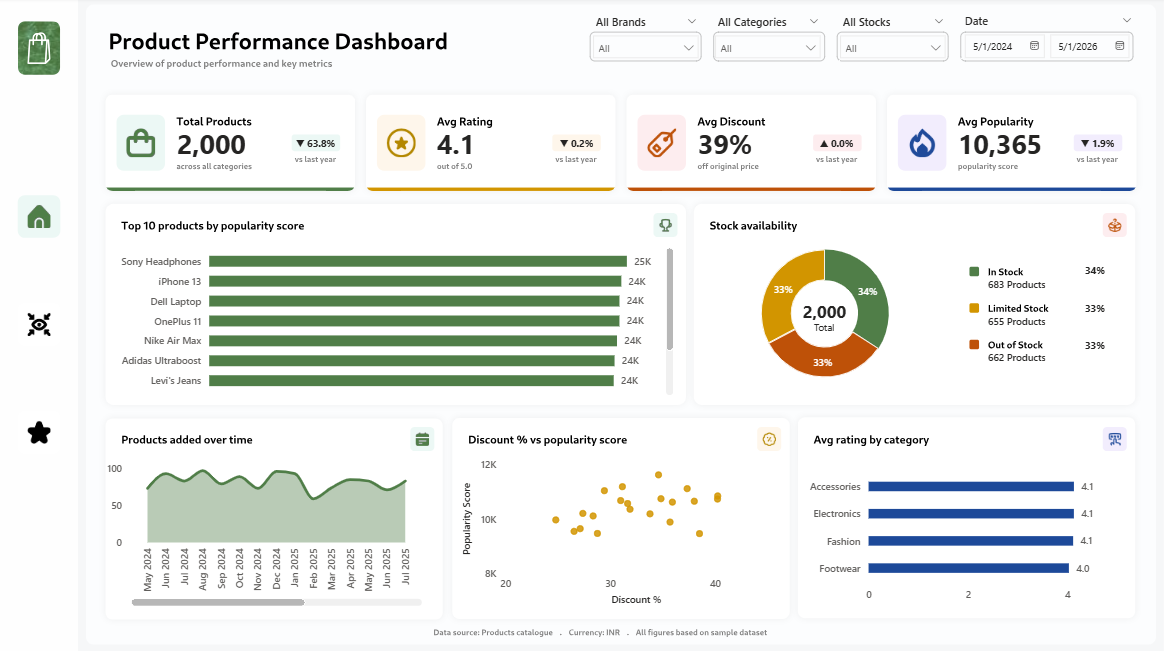

What the dashboard file says about the page in this screenshot:
{"tool":"powerbi","page":{"name":"Home","canvas":[1280,720],"ordinal":1},"visuals":[{"type":"cardVisual","fields":{"Data":["Products.Avg Rating"]},"box":[469.1,115.2,131.2,81.9],"z":0},{"type":"slicer","fields":{"Values":["Products.brand"]},"box":[641.7,14.3,136.4,61.1],"z":1000},{"type":"slicer","fields":{"Values":["Products.category"]},"box":[776.8,14.3,136.4,61.1],"z":2000},{"type":"slicer","fields":{"Values":["Products.stock_status"]},"box":[913.3,14.3,136.4,61.1],"z":3000},{"type":"slicer","fields":{"Values":["Date Table.Date"]},"box":[1047.8,13.3,208.9,61.1],"z":4000},{"type":"cardVisual","fields":{"Data":["Products.Total Products"]},"box":[183.2,115.2,124.8,81.9],"z":5000},{"type":"cardVisual","fields":{"Data":["Products.Avg Discount %"]},"box":[756.3,115.2,127.4,81.9],"z":6000},{"type":"cardVisual","fields":{"Data":["Products.Avg Popularity Score"]},"box":[1042.2,115.2,133.8,81.9],"z":7000},{"type":"clusteredBarChart","fields":{"Y":["Products.Max Popularity Score"],"Category":["Products.product_name"]},"box":[122.2,263.3,623.3,180],"z":8000},{"type":"donutChart","fields":{"Y":["CountNonNull(Products.stock_status)"],"Category":["Products.stock_status"]},"box":[765.3,253.3,283.3,190],"z":9000},{"type":"cardVisual","fields":{"Data":["Products.Stock Status Count"]},"box":[857.5,304.1,98.9,72.2],"z":10000},{"type":"cardVisual","fields":{"Data":["Products.Product Out of Stock Label"]},"box":[1075.6,370,107.8,36.7],"z":11000},{"type":"cardVisual","fields":{"Data":["Products.Product Limited Stock Label"]},"box":[1075.6,330,107.8,36.7],"z":12000},{"type":"cardVisual","fields":{"Data":["Products.Product In Stock Label"]},"box":[1075.6,288.9,107.8,36.7],"z":13000},{"type":"cardVisual","fields":{"Data":["Products.In Stock %"]},"box":[1182.3,273.3,62.2,42.2],"z":14000},{"type":"cardVisual","fields":{"Data":["Products.Limited Stock %"]},"box":[1182.3,315.6,62.2,42.2],"z":15000},{"type":"cardVisual","fields":{"Data":["Products.Out Stock %"]},"box":[1182.3,356.7,62.2,42.2],"z":16000},{"type":"areaChart","fields":{"Category":["Date Table.Month Year"],"Y":["Products.Products Added"]},"box":[112.2,500,356.7,174.4],"z":17000},{"type":"scatterChart","fields":{"Y":["Avg(Products.popularity_score)"],"Category":["Products.product_name"],"X":["Products.High Discount Products %"]},"box":[503.3,500,352.2,174.4],"z":18000},{"type":"textbox","box":[881.4,348.6,51.1,31.1],"z":19000},{"type":"clusteredBarChart","fields":{"Category":["Products.category"],"Y":["Avg(Products.rating)"]},"box":[884.4,507.8,353.3,166.7],"z":20000},{"type":"actionButton","box":[8.8,325.6,67.8,67.8],"z":21000},{"type":"actionButton","box":[8.9,206.7,67.8,67.8],"z":22000},{"type":"actionButton","box":[8.8,443.3,67.8,67.8],"z":23000},{"type":"cardVisual","fields":{"Data":["Products.YoY Total Products"]},"box":[313.3,134.4,67.8,40],"z":24000},{"type":"cardVisual","fields":{"Data":["Products.YoY Avg Rating"]},"box":[600,134.4,67.8,40],"z":25000},{"type":"cardVisual","fields":{"Data":["Products.YoY Avg Discount"]},"box":[886.7,134.4,67.8,40],"z":26000},{"type":"cardVisual","fields":{"Data":["Products.YoY Avg Popularity"]},"box":[1173.3,134.4,67.8,40],"z":27000}]}

Visuals, with their boxes in screenshot pixels (x1, y1, x2, y2), scaled from the page's 1280x720 canvas onto the 1164x651 screenshot:
cardVisual - Products.Avg Rating: 427, 104, 546, 178
slicer - Products.brand: 584, 13, 708, 68
slicer - Products.category: 706, 13, 830, 68
slicer - Products.stock_status: 831, 13, 955, 68
slicer - Date Table.Date: 953, 12, 1143, 67
cardVisual - Products.Total Products: 167, 104, 280, 178
cardVisual - Products.Avg Discount %: 688, 104, 804, 178
cardVisual - Products.Avg Popularity Score: 948, 104, 1069, 178
clusteredBarChart - Products.Max Popularity Score x Products.product_name: 111, 238, 678, 401
donutChart - CountNonNull(Products.stock_status) x Products.stock_status: 696, 229, 954, 401
cardVisual - Products.Stock Status Count: 780, 275, 870, 340
cardVisual - Products.Product Out of Stock Label: 978, 335, 1076, 368
cardVisual - Products.Product Limited Stock Label: 978, 298, 1076, 332
cardVisual - Products.Product In Stock Label: 978, 261, 1076, 294
cardVisual - Products.In Stock %: 1075, 247, 1132, 285
cardVisual - Products.Limited Stock %: 1075, 285, 1132, 324
cardVisual - Products.Out Stock %: 1075, 323, 1132, 361
areaChart - Date Table.Month Year x Products.Products Added: 102, 452, 426, 610
scatterChart - Avg(Products.popularity_score) x Products.product_name: 458, 452, 778, 610
textbox: 802, 315, 848, 343
clusteredBarChart - Products.category x Avg(Products.rating): 804, 459, 1126, 610
actionButton: 8, 294, 70, 356
actionButton: 8, 187, 70, 248
actionButton: 8, 401, 70, 462
cardVisual - Products.YoY Total Products: 285, 122, 347, 158
cardVisual - Products.YoY Avg Rating: 546, 122, 607, 158
cardVisual - Products.YoY Avg Discount: 806, 122, 868, 158
cardVisual - Products.YoY Avg Popularity: 1067, 122, 1129, 158
